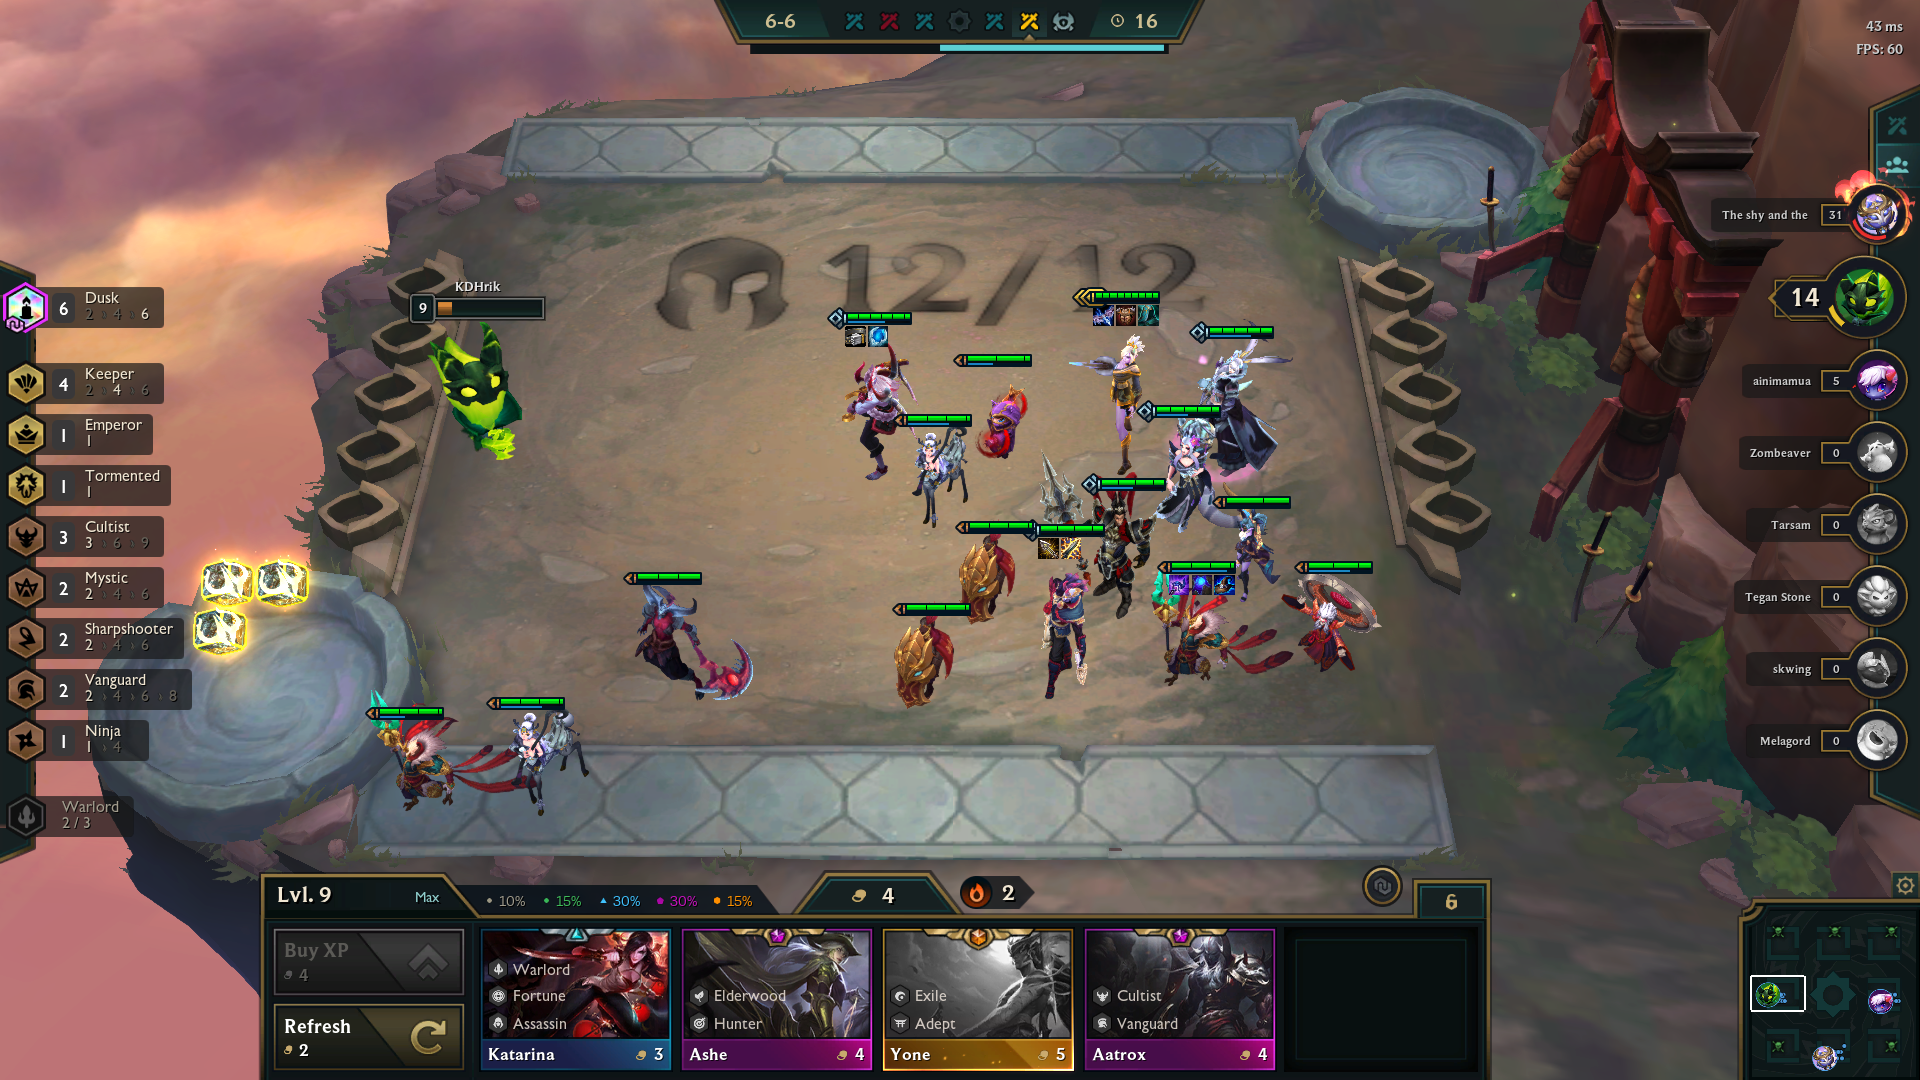1star_azir: (1131, 546, 1298, 705), (353, 684, 489, 824)
1star_azirsoldier: (862, 591, 998, 731), (924, 501, 1060, 641)
1star_kaynred: (612, 555, 766, 721)
1star_kennen: (945, 344, 1044, 477)
1star_lillia: (477, 688, 613, 828), (887, 402, 986, 535)
1star_vayne: (1203, 485, 1302, 618)
1star_zilean: (1276, 553, 1400, 711)
2star_aatrox: (811, 301, 934, 497)
2star_cassiopeia: (1120, 392, 1282, 550)
2star_jarvaniv: (1068, 464, 1179, 641)
2star_jhin: (1009, 516, 1113, 717)
2star_thresh: (1172, 313, 1296, 491)
3star_riven: (1062, 276, 1185, 487)
item_belt: (847, 322, 870, 348)
item_bluebuff: (1191, 570, 1215, 596)
item_bramble: (1114, 301, 1138, 326)
item_frozenheart: (868, 323, 891, 349)
item_ie: (1035, 535, 1059, 560)
item_luden: (1168, 571, 1192, 597)
item_mage: (1215, 571, 1238, 597)
item_quicksilver: (1135, 301, 1160, 326)
item_spark: (1089, 302, 1113, 328)
item_statikk: (1060, 534, 1084, 560)
trait_cultist3: (1, 509, 183, 562)
trait_dusk6: (1, 276, 179, 338)
trait_emperor1: (1, 407, 171, 460)
trait_keeper4: (1, 357, 171, 409)
trait_mystic2: (1, 560, 183, 613)
trait_ninja1: (1, 712, 171, 770)
trait_sharpshooter2: (1, 612, 189, 665)
trait_tormented1: (1, 458, 183, 510)
trait_vanguard2: (1, 661, 200, 716)
trait_warlord2: (1, 787, 171, 845)
